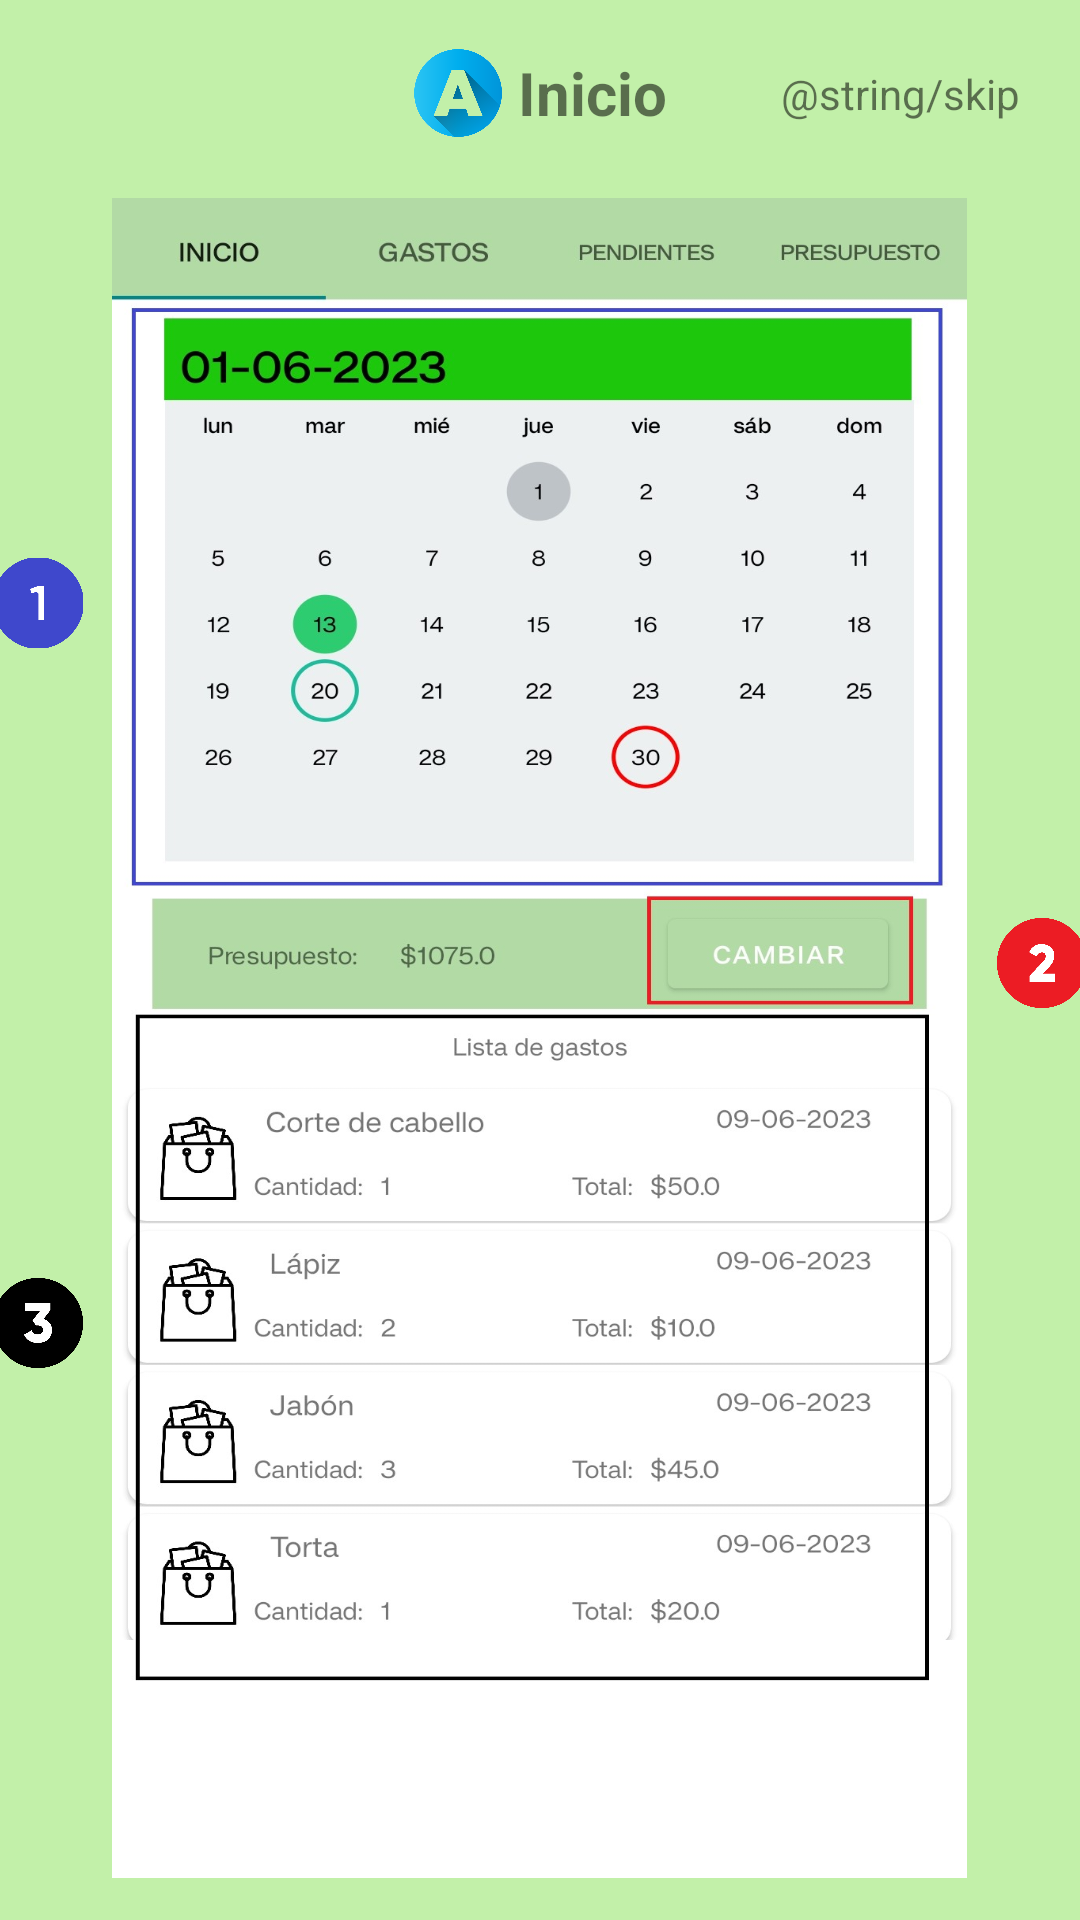

Where to tap for icons on this 1080 x 1920 app screen, as (x=x, y=y):
letra: (x=458, y=93)
num: (x=41, y=1323)
num azul: (x=41, y=603)
num rojo: (x=1038, y=963)
